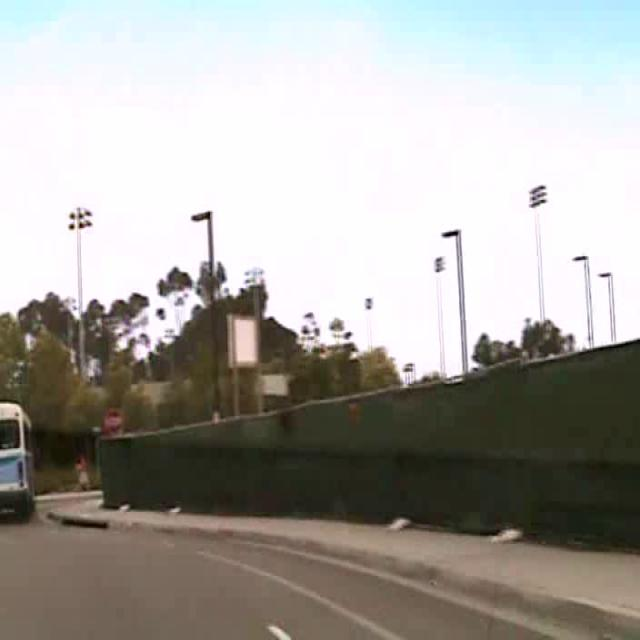stop_sign: (100, 406, 123, 438)
